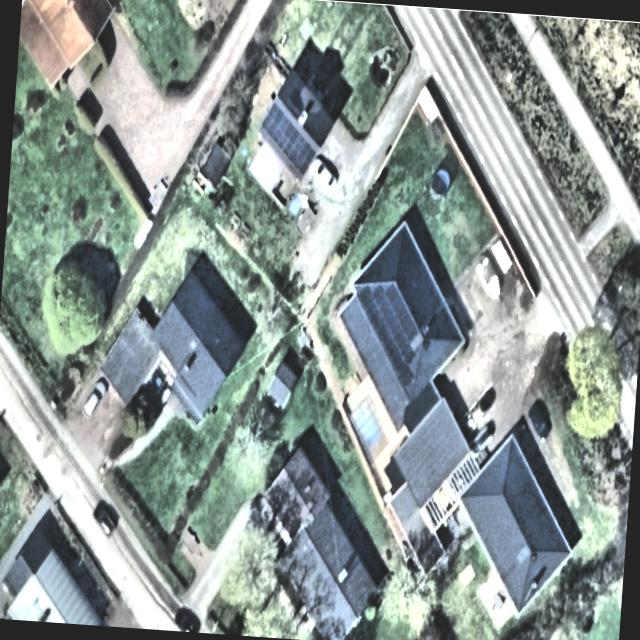roof_pv: (350, 277, 425, 385), (258, 103, 318, 172)
